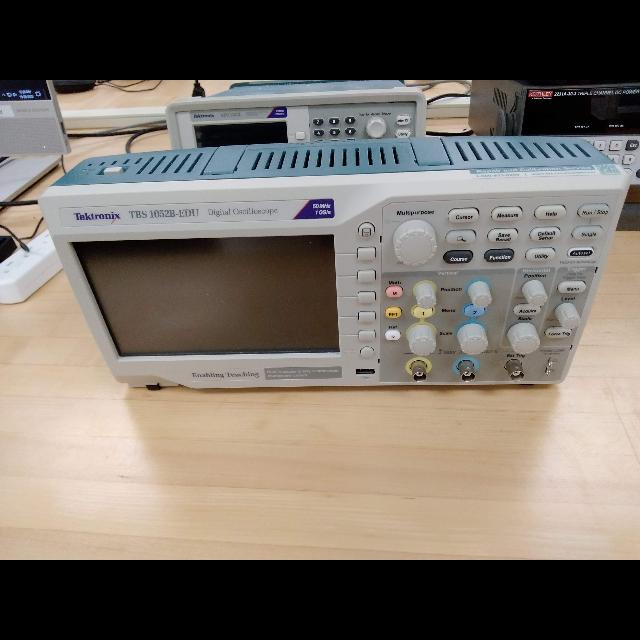Digital-Oscilloscope: (40, 181, 627, 384)
